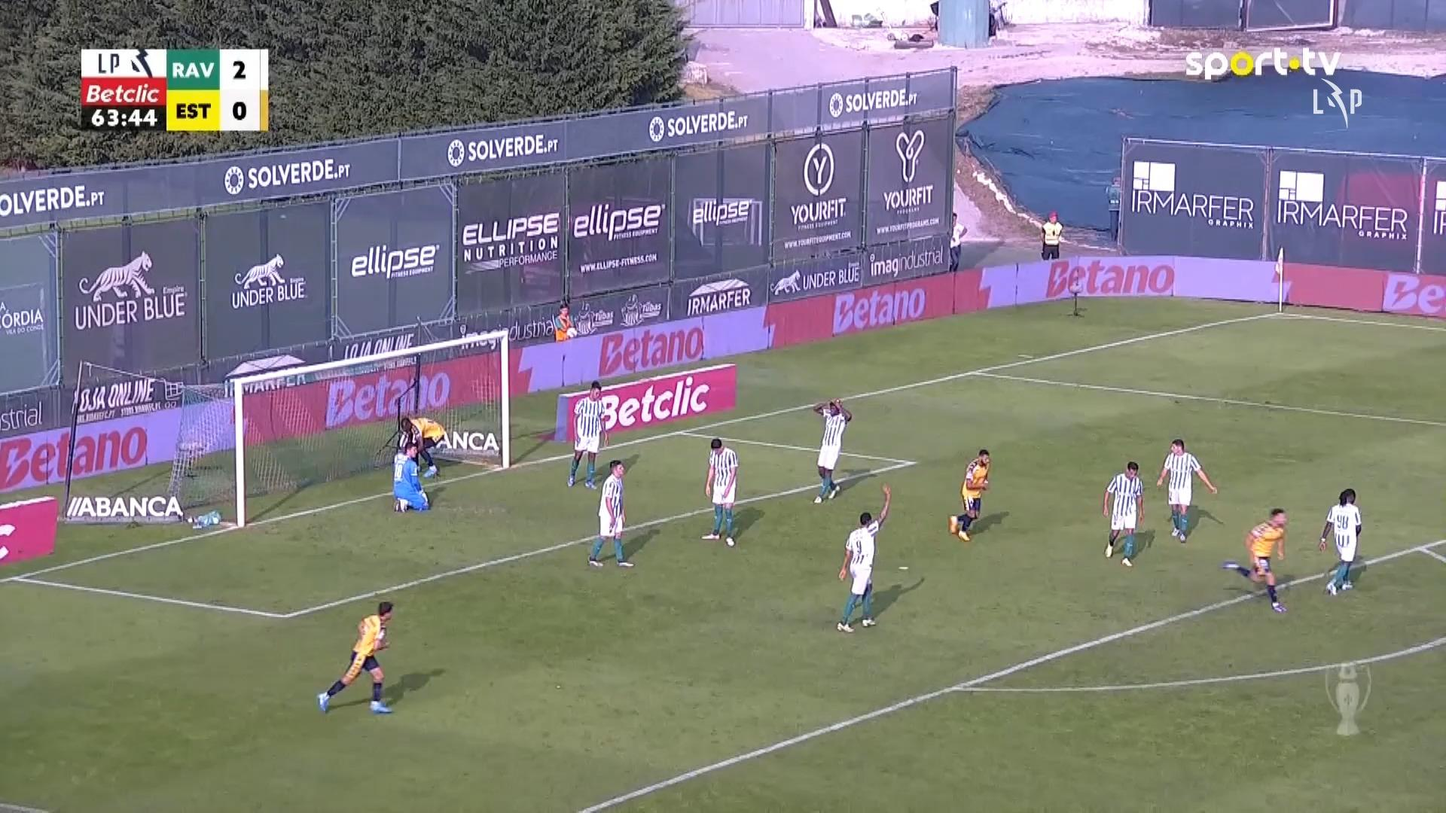goalkeeper: (392, 442, 430, 513)
player: (316, 600, 395, 714), (835, 483, 892, 632), (1156, 437, 1217, 542), (586, 458, 634, 568), (1317, 487, 1362, 595), (566, 380, 609, 489), (1244, 507, 1288, 613), (1100, 461, 1143, 566), (811, 397, 852, 504), (700, 437, 739, 547), (947, 448, 990, 541), (398, 414, 446, 478)
